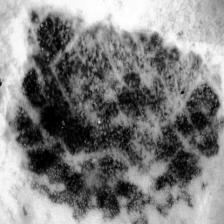Benign Marking or Mole: (7, 8, 222, 224)
